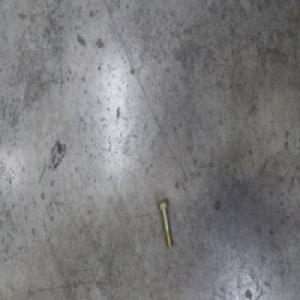Bolt: (156, 197, 173, 249)
